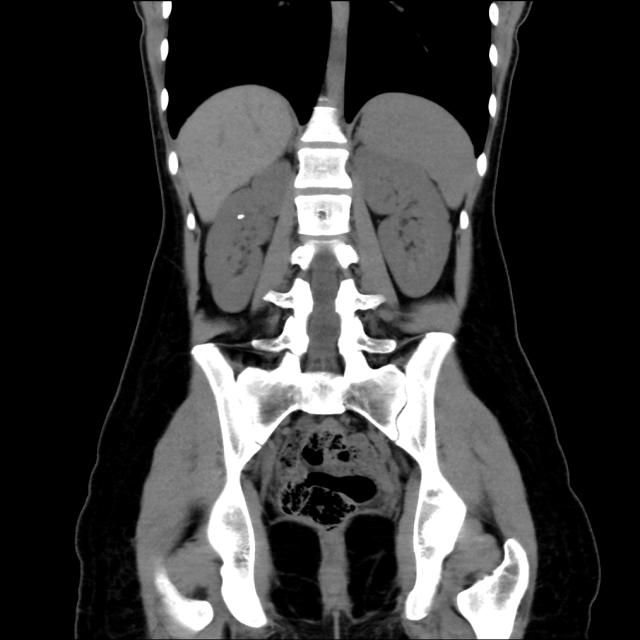kidneystone: (237, 214, 244, 219)
